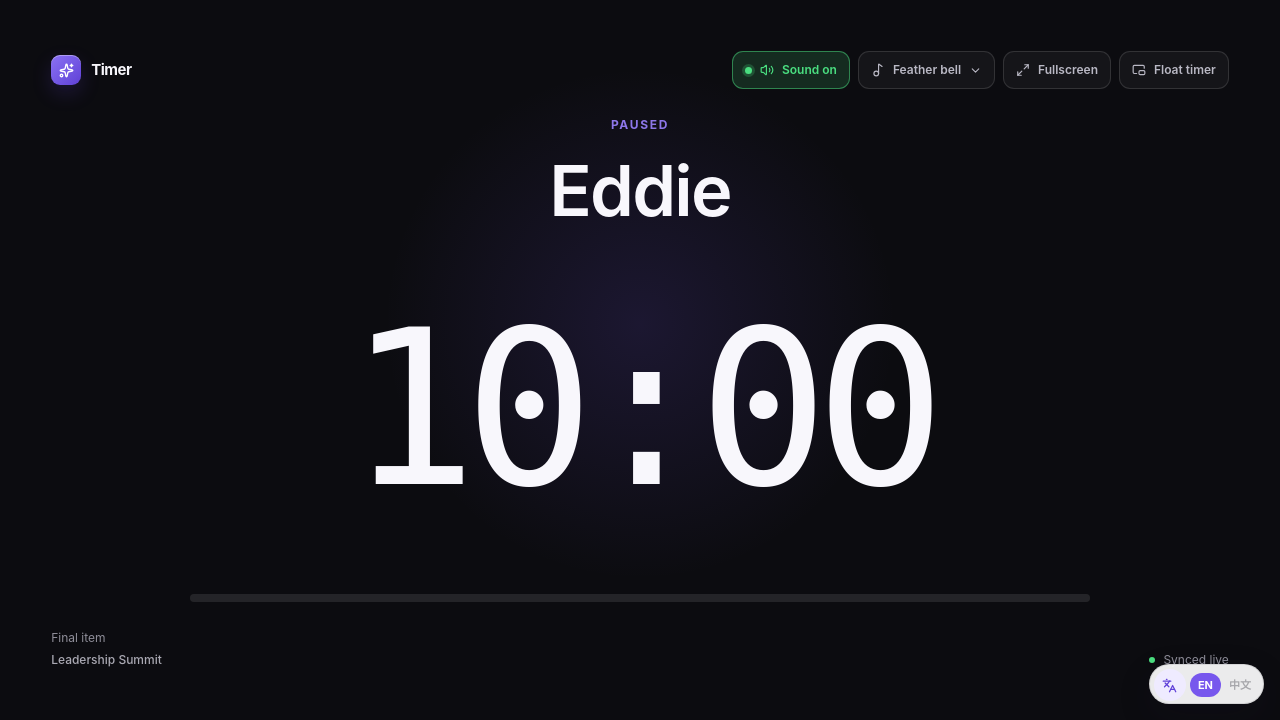
Test case: AudienceDisplay › keeps the floating timer in sync with the selected language
Click the button "Float timer" at (1174, 70), box [1119,51,1229,89]
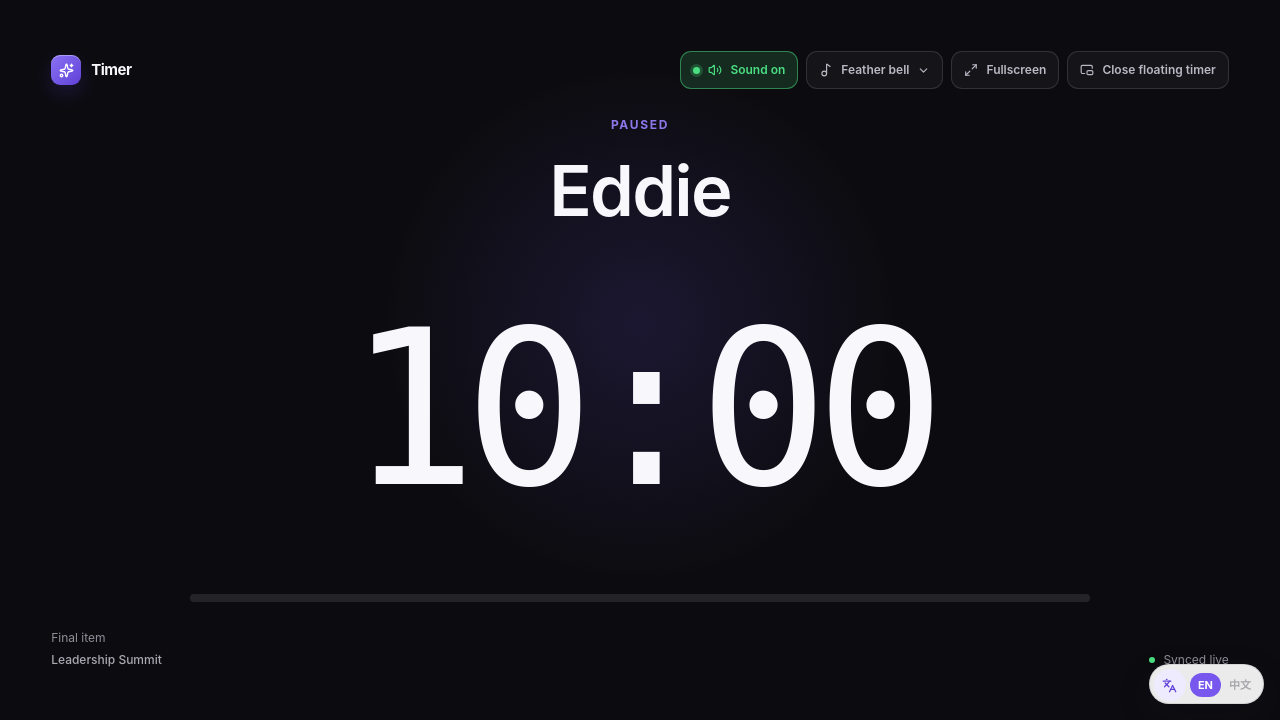
Click the switch named "Switch to Chinese" at (1206, 684), box [1149,664,1264,704]
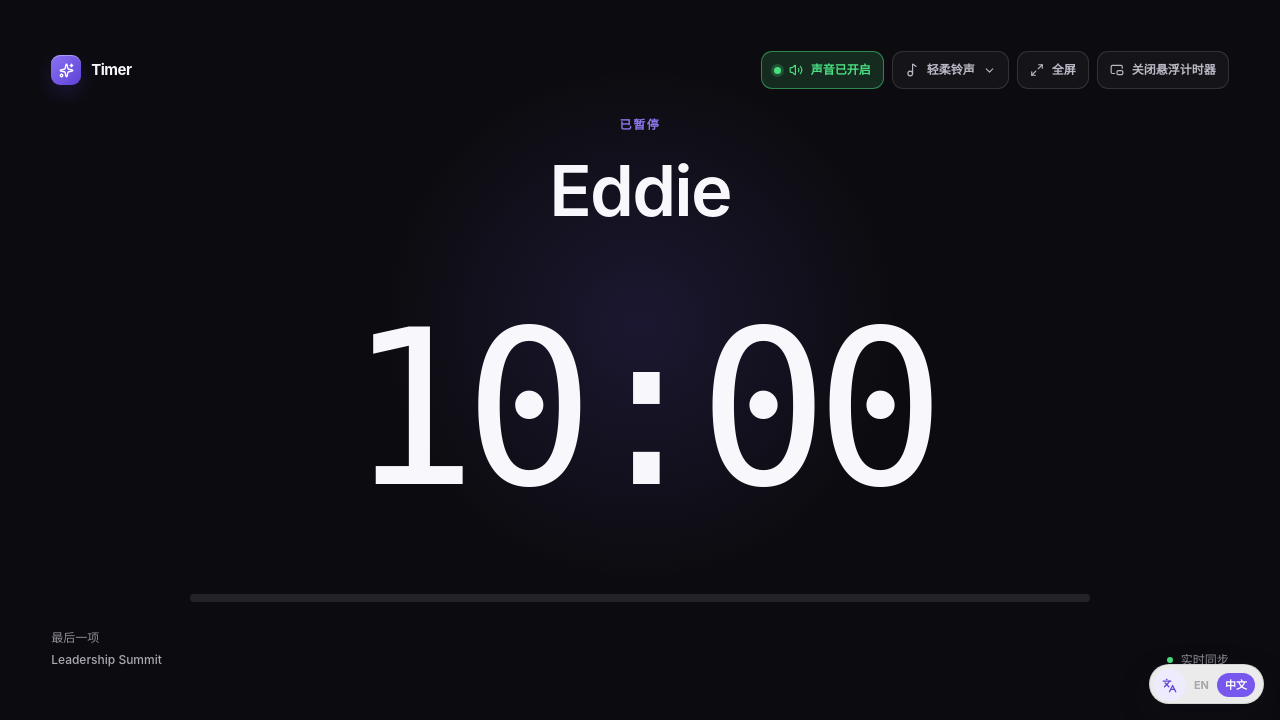
Result: the button "关闭悬浮计时器" is shown at [1097,51,1229,89]
